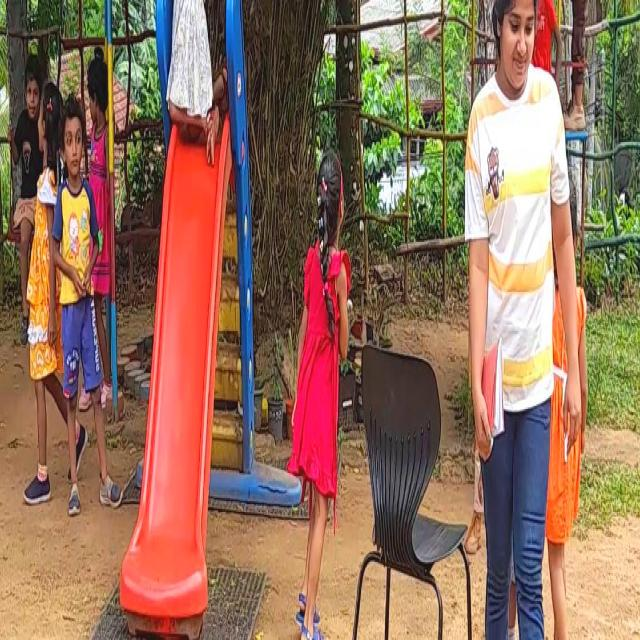adult: (475, 0, 571, 640)
child: (277, 143, 362, 640), (63, 94, 100, 534)
